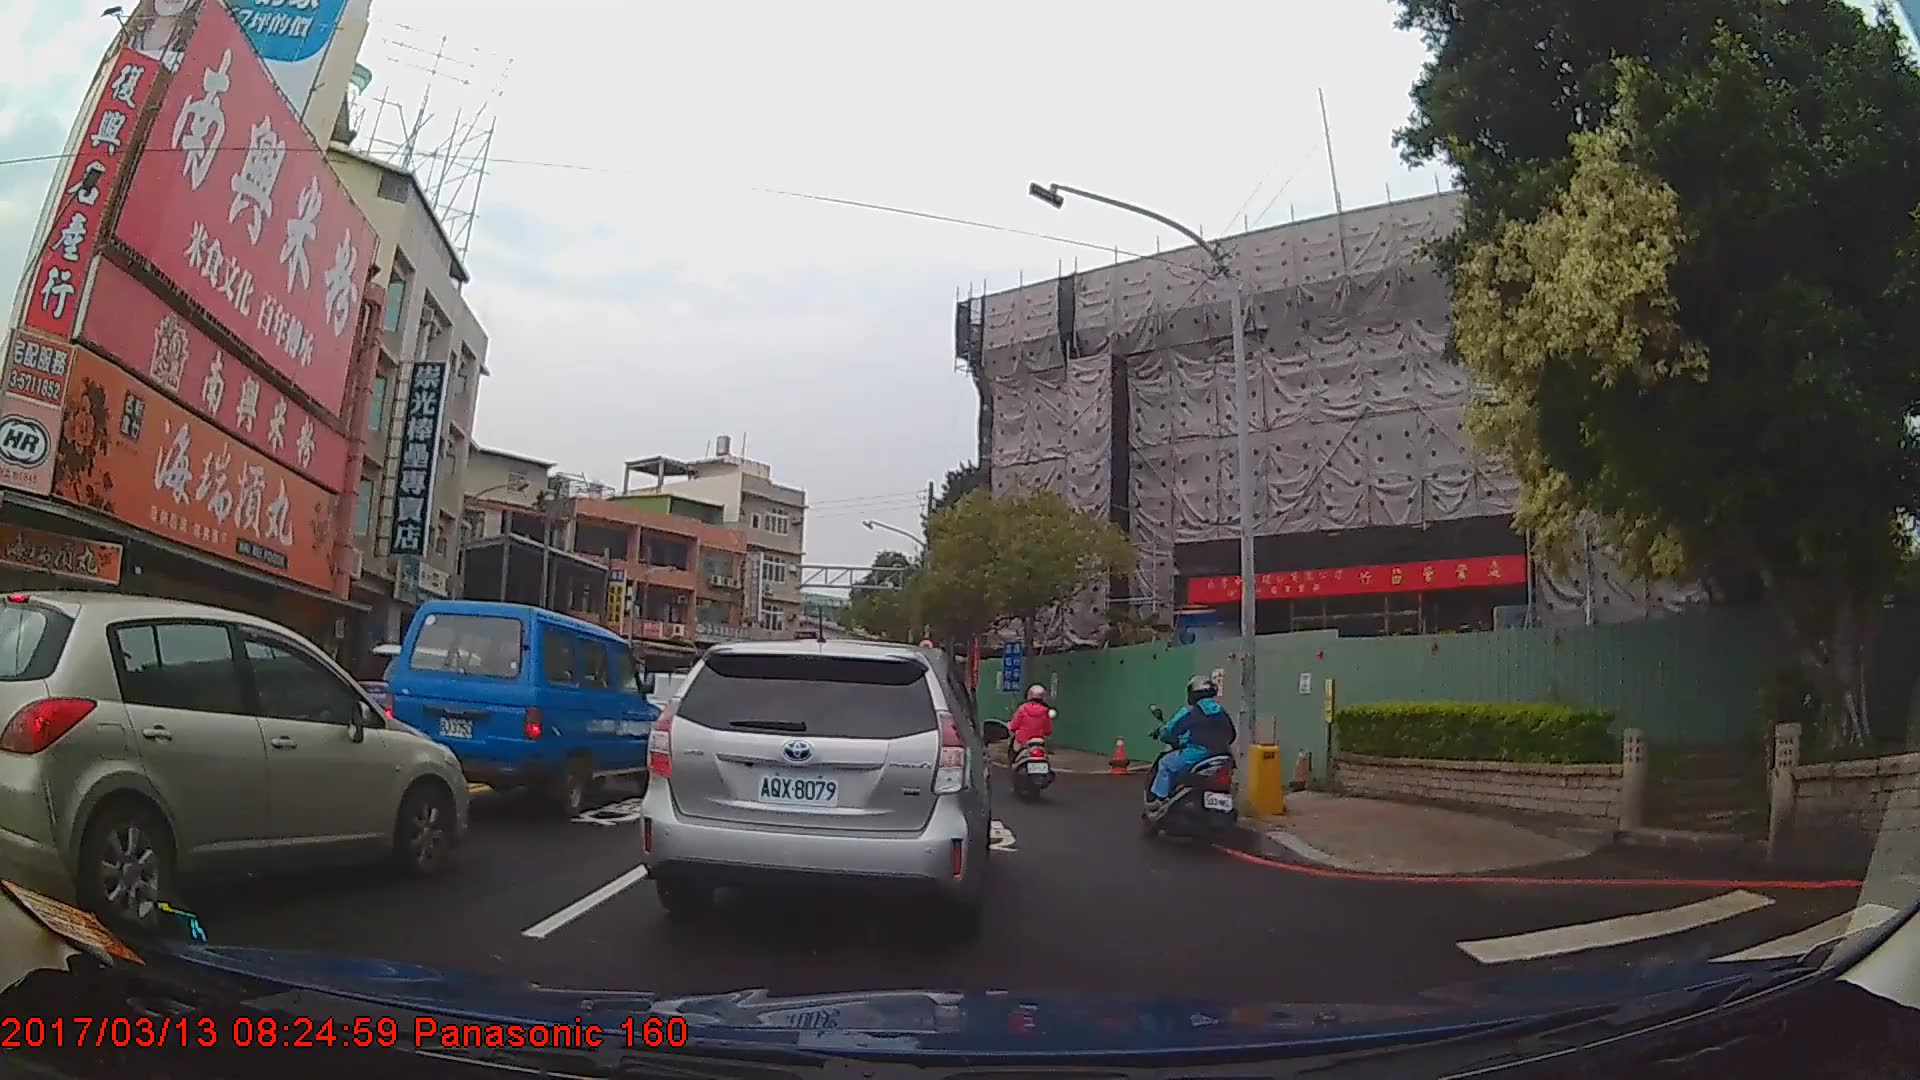rider: (1149, 675, 1246, 852), (1003, 685, 1060, 797)
vehicle: (0, 586, 467, 935), (635, 634, 994, 942), (382, 597, 666, 817)
